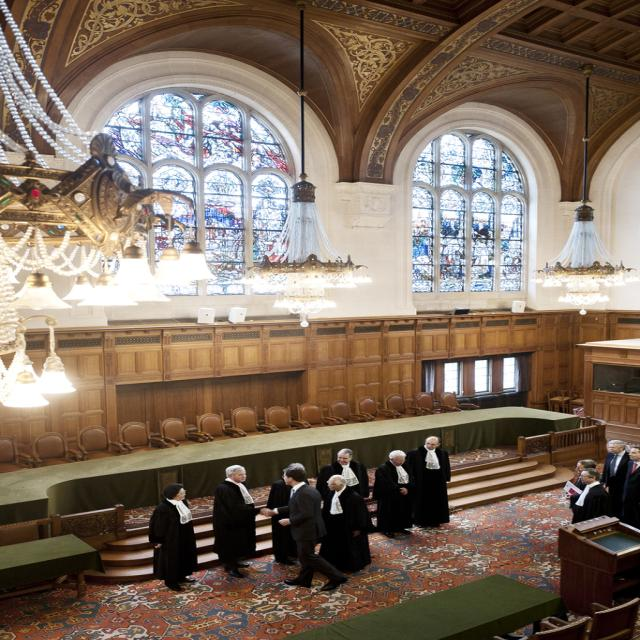Table: (283, 573, 564, 640), (0, 531, 104, 598)
